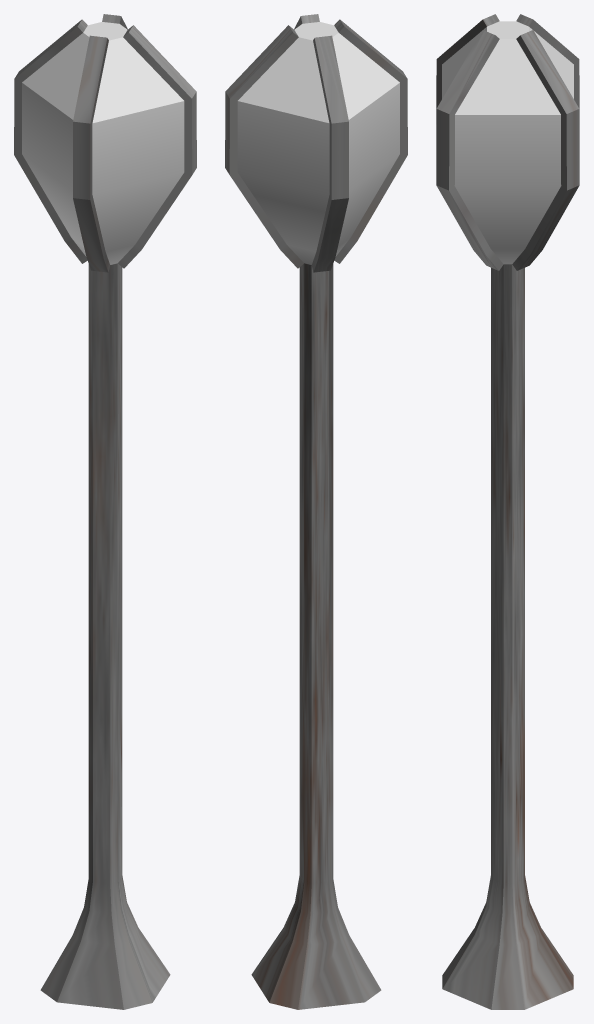
The model's file is Road Light.fbx.
The picture shows the model from 3 angles, left to right: view 1: azimuth 30°, elevation 25°; view 2: azimuth 150°, elevation 25°; view 3: azimuth 270°, elevation 25°; orthographic projection.
Parts seen in each view (by area): view 1: RoadLight; view 2: RoadLight; view 3: RoadLight.
Part boxes in pixels (box(x1,y1,x2,y2)): RoadLight: box(14, 14, 196, 1009); RoadLight: box(225, 14, 407, 1009); RoadLight: box(436, 14, 579, 1009).
Size of the model in its own units: 67.75 by 499 by 67.75.
